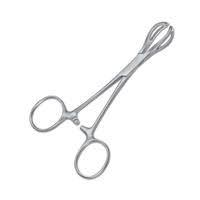Lane Tissue Forceps: (27, 18, 180, 182)
